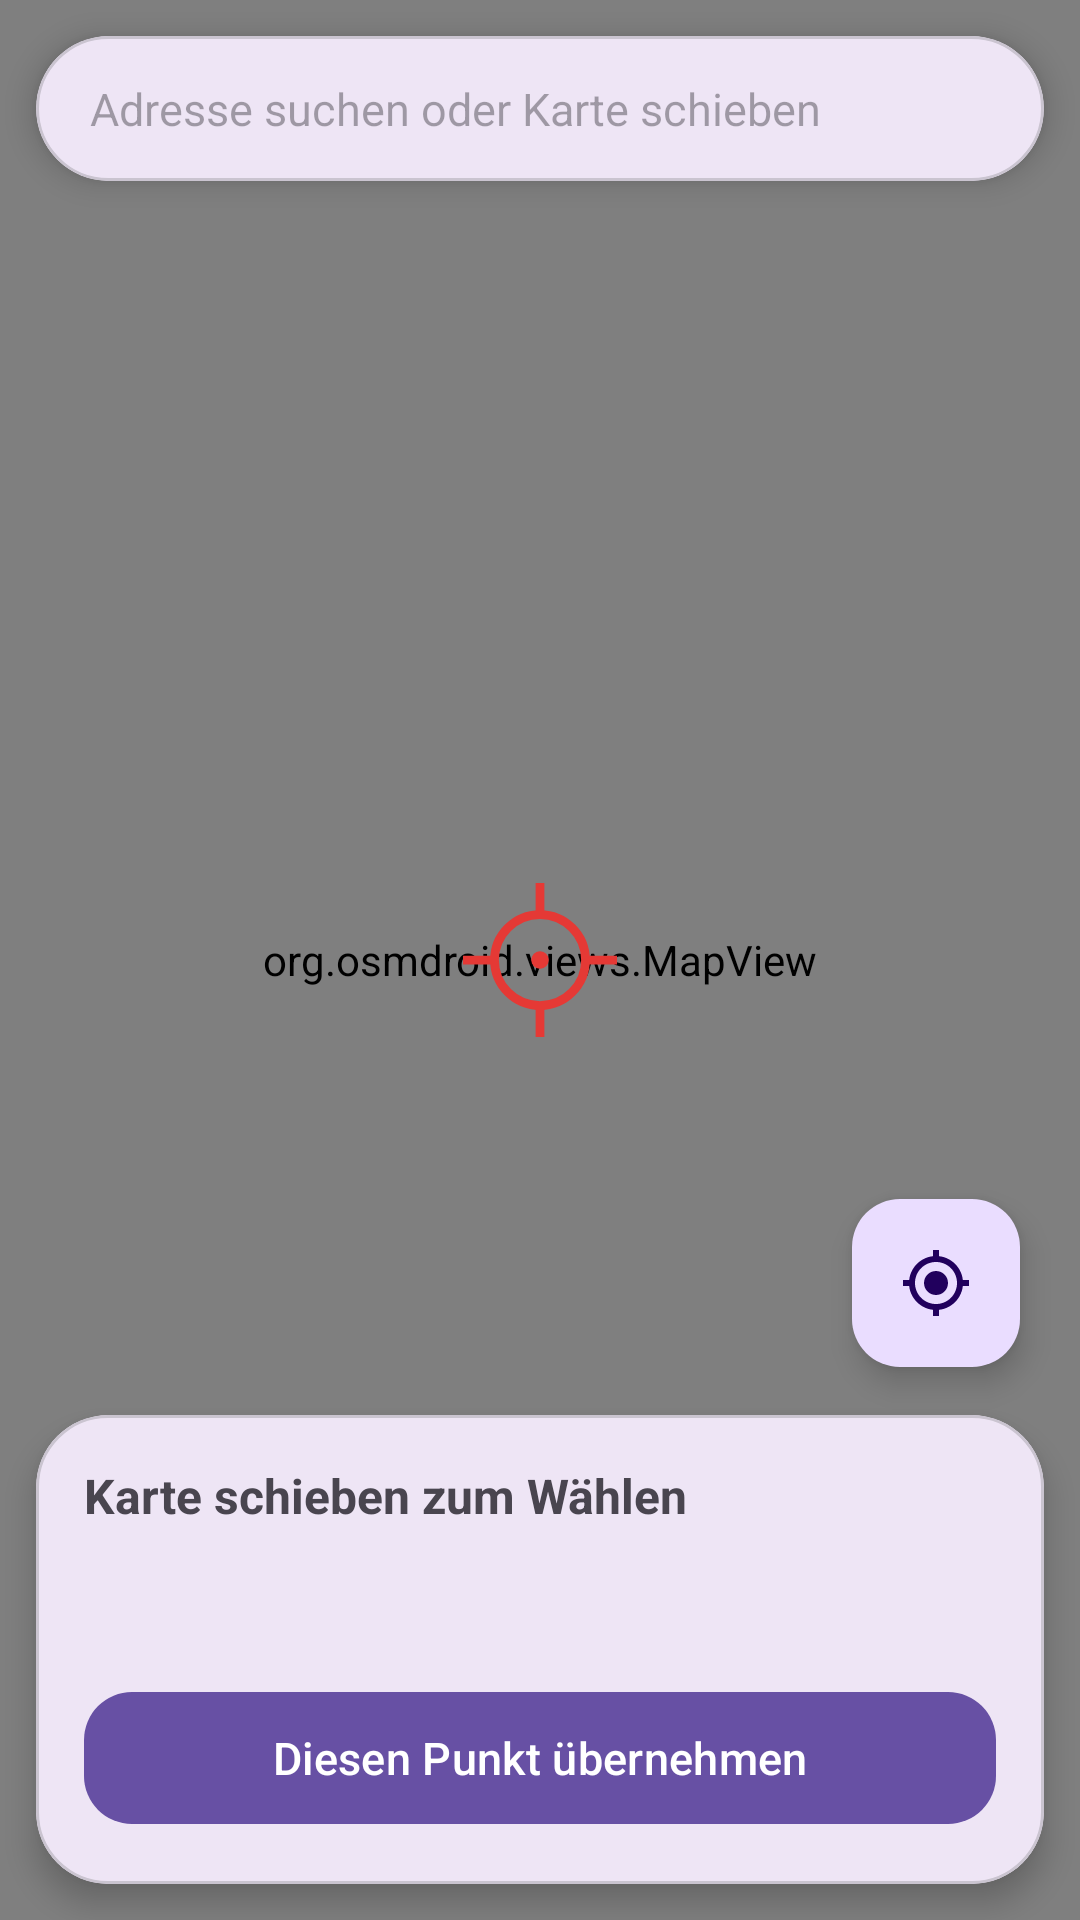

Named icons in this screenshot (1080 x 1920) and their centers, [x,y]:
Standort: [936,1283]
